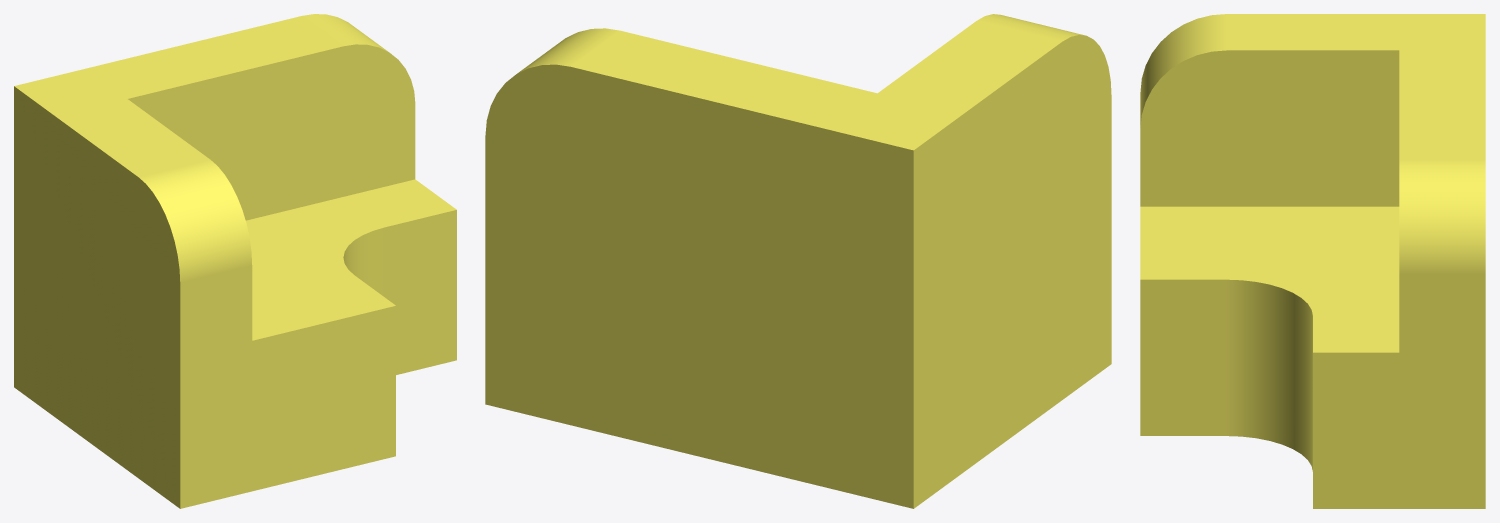
The picture shows the model from 3 angles, left to right: view 1: azimuth 30°, elevation 25°; view 2: azimuth 150°, elevation 25°; view 3: azimuth 270°, elevation 25°; orthographic projection. The views are drawn at different scales.
Parts seen in each view (by area): view 1: 883; view 2: 883; view 3: 883.
Boxes of the visible parts, left/top/right/bottom form: 883: left=14, top=14, right=456, bottom=508; 883: left=485, top=14, right=1111, bottom=508; 883: left=1140, top=14, right=1485, bottom=508.
Bounding box in the file's own units: 0.05 × 0.04 × 0.04.
